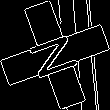N_E: (24, 27, 86, 83)
